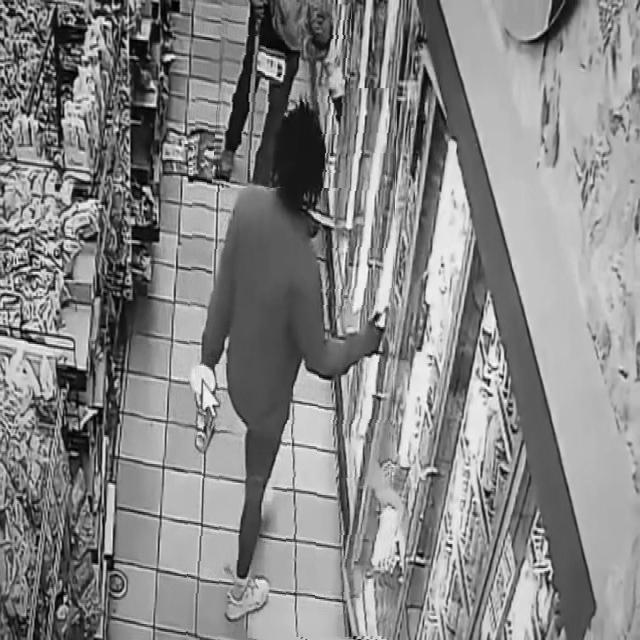Normal: (188, 88, 395, 640), (216, 0, 350, 188)
